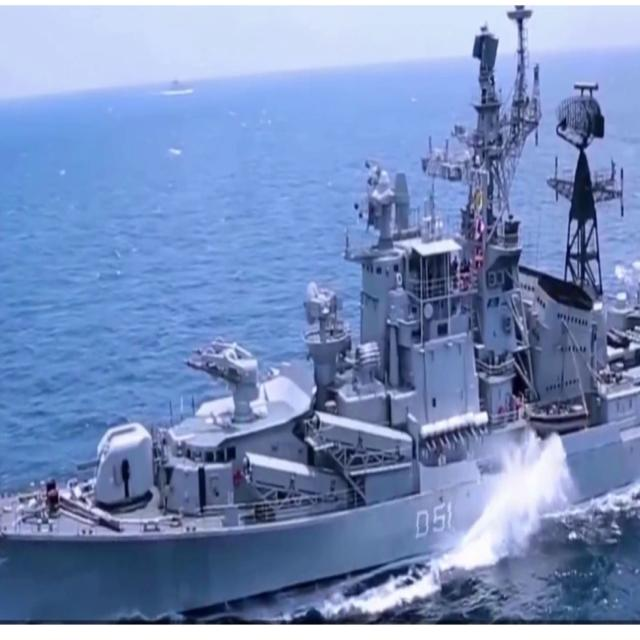OCR: (408, 496, 455, 546)
